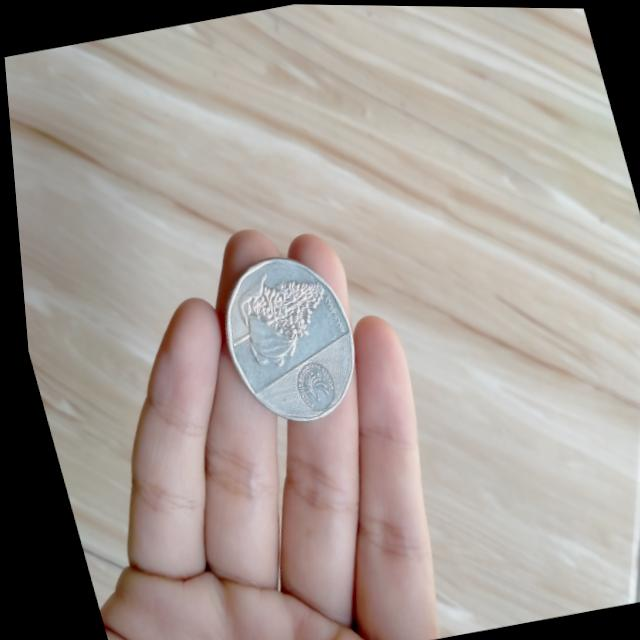10_New_Back: (199, 245, 357, 380)
